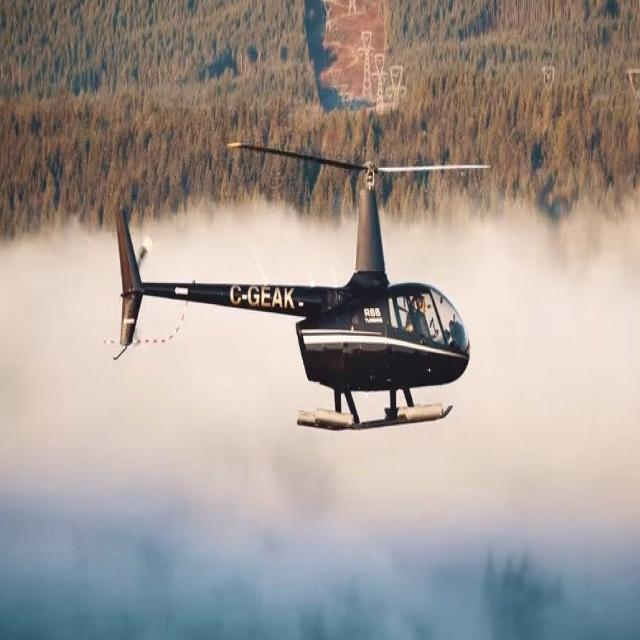helicopter: (115, 141, 493, 432)
